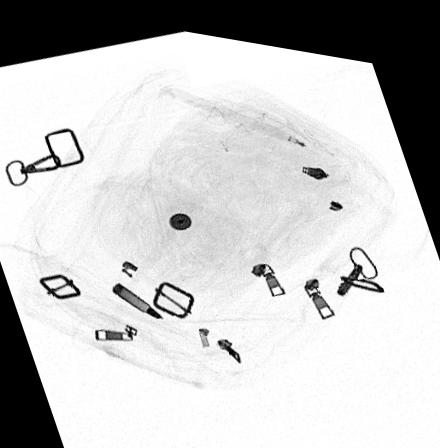Bullet: (111, 277, 162, 313)
